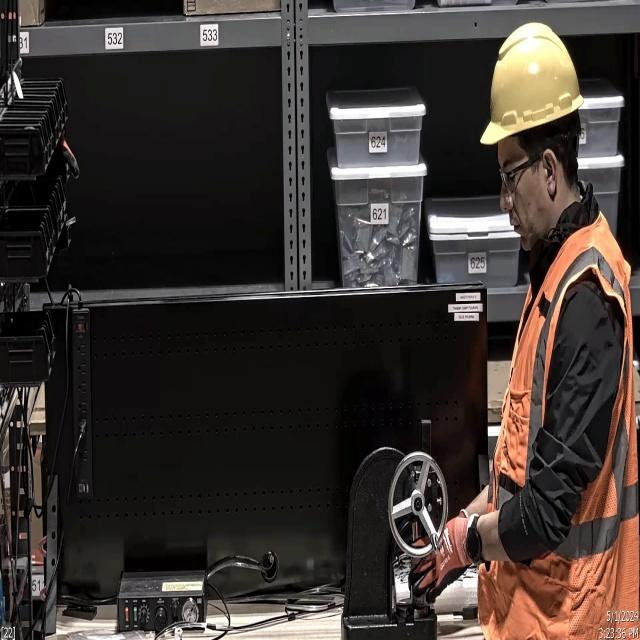gloves: (408, 508, 474, 610)
